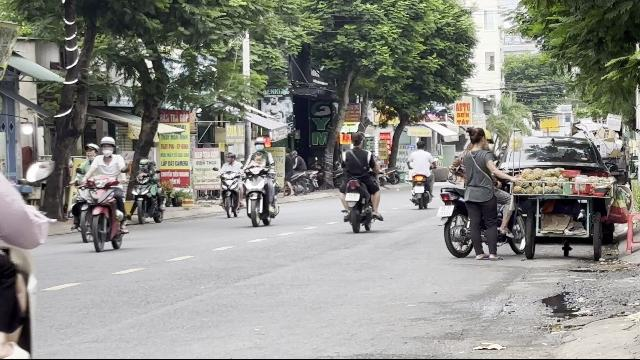helmet: (98, 136, 115, 156), (252, 137, 266, 155), (84, 142, 98, 158)
licenseplate: (436, 206, 454, 216), (345, 193, 359, 201)
motorcyclist: (70, 135, 130, 251), (337, 132, 383, 232), (242, 136, 280, 228)
nohelmet: (350, 132, 364, 148)
